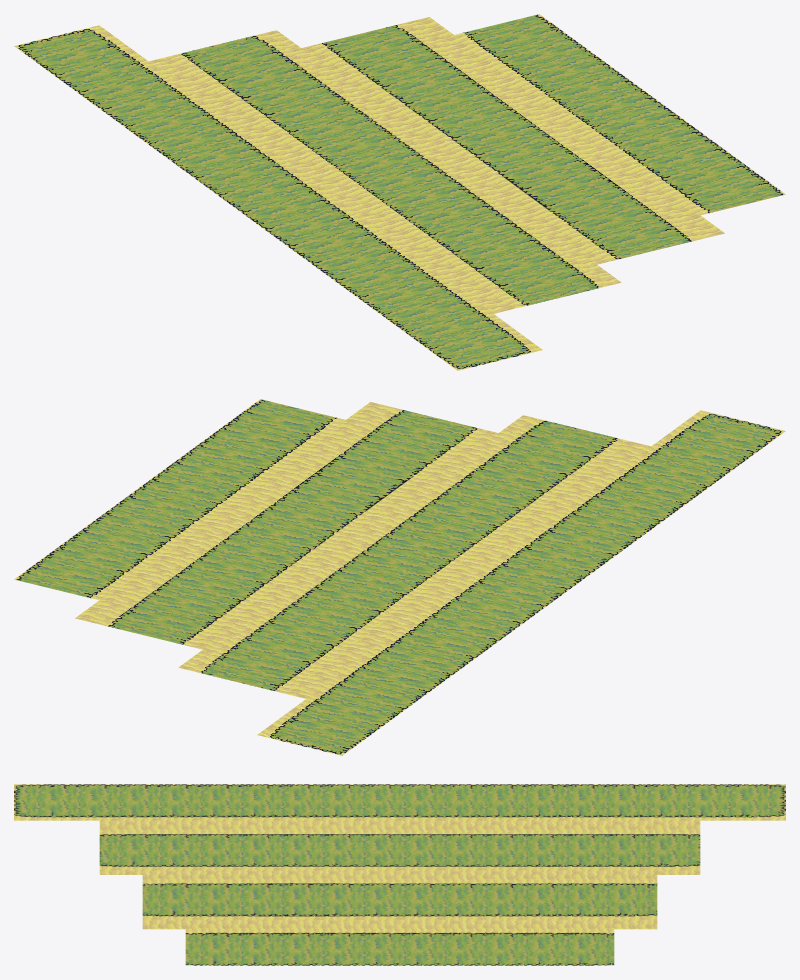
File: Ground.fbx
The picture shows the model from 3 angles, top to bottom: view 1: azimuth 30°, elevation 25°; view 2: azimuth 150°, elevation 25°; view 3: azimuth 270°, elevation 25°; orthographic projection. The views are drawn at different scales.
Parts seen in each view (by area): view 1: Plane; view 2: Plane; view 3: Plane.
Boxes of the visible parts, x1=… form: Plane: x1=14, y1=14, x2=785, y2=370; Plane: x1=14, y1=399, x2=785, y2=755; Plane: x1=14, y1=784, x2=785, y2=965.
Bounding box in the file's own units: 1000 × 7.87e-05 × 1800.
